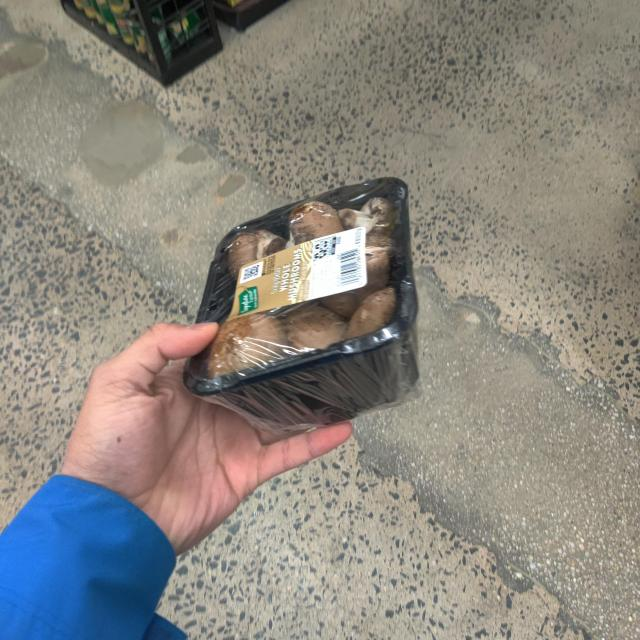Mushrooms: (176, 175, 430, 429)
